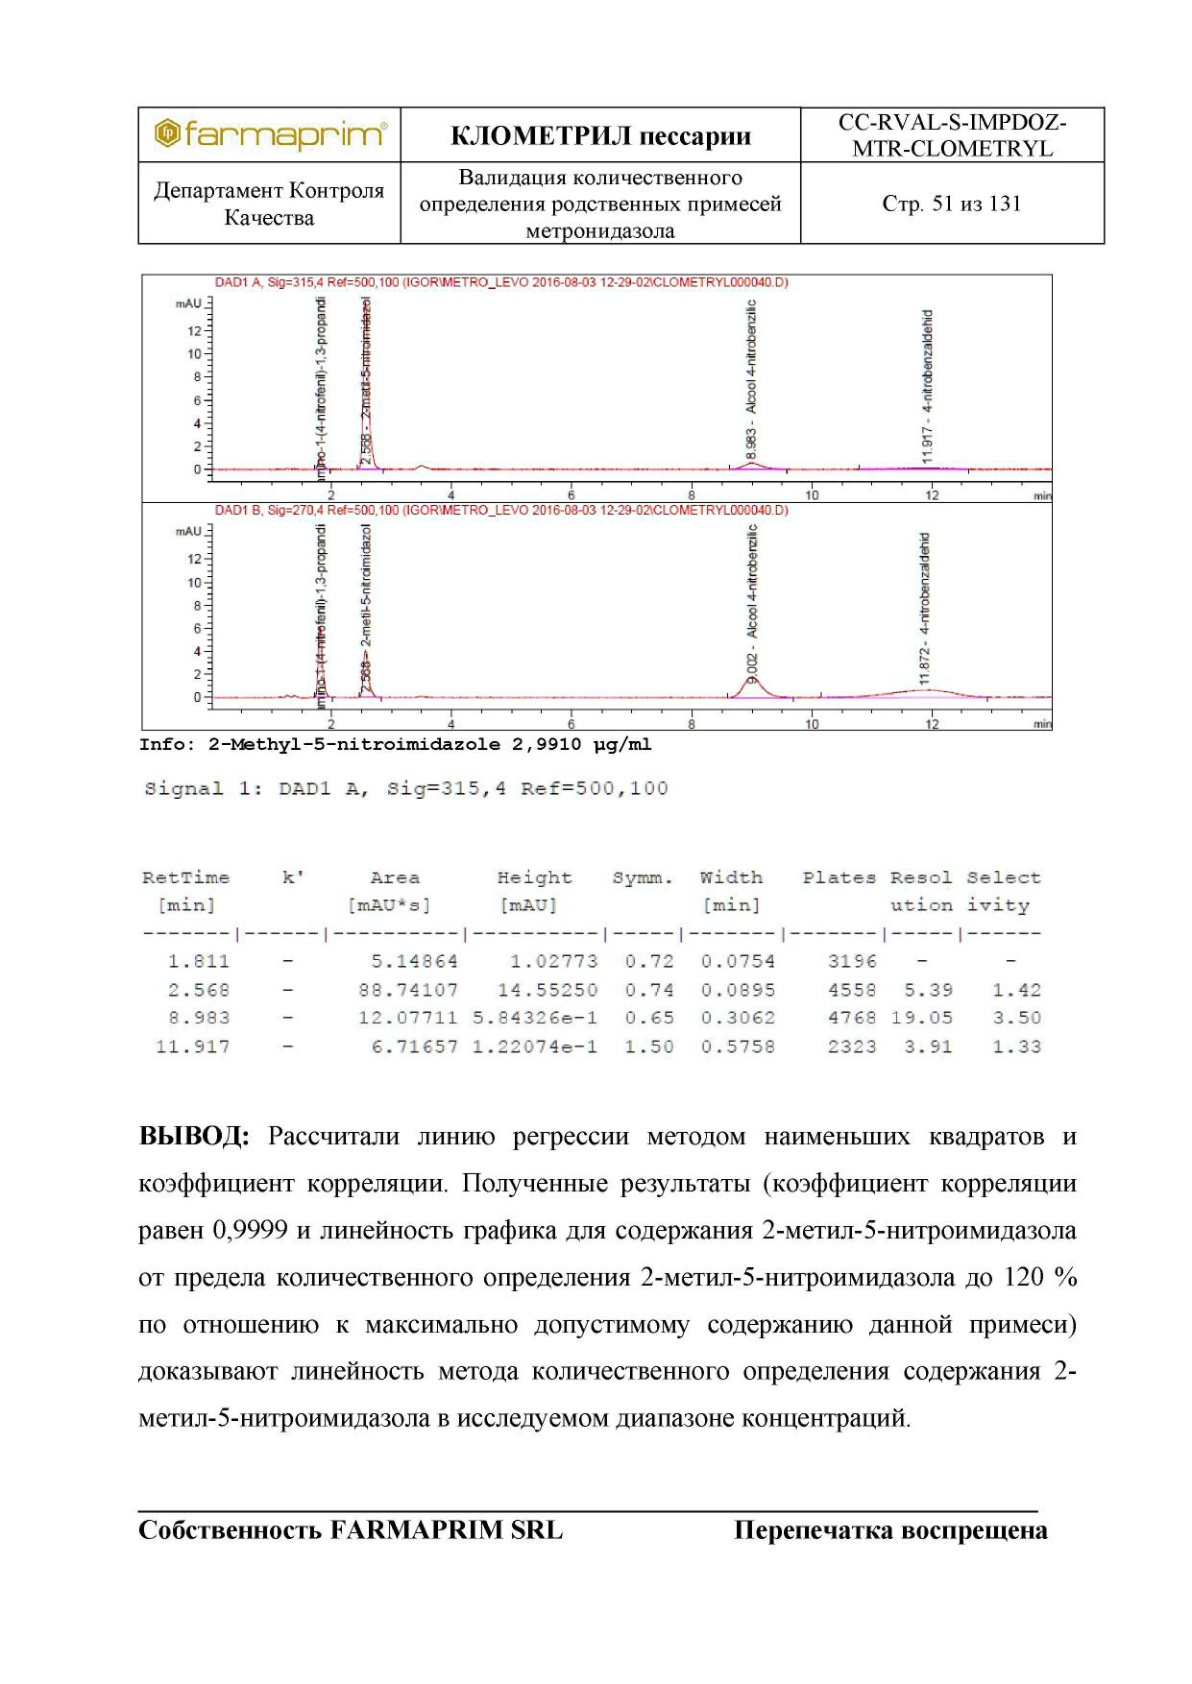full_lined: (135, 104, 1108, 248)
partial_lined: (141, 865, 1048, 1062)
